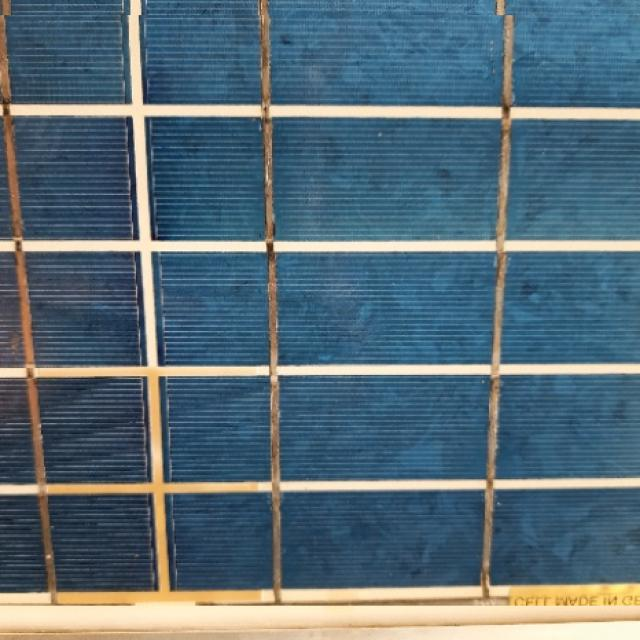Clean: (0, 15, 640, 606)
